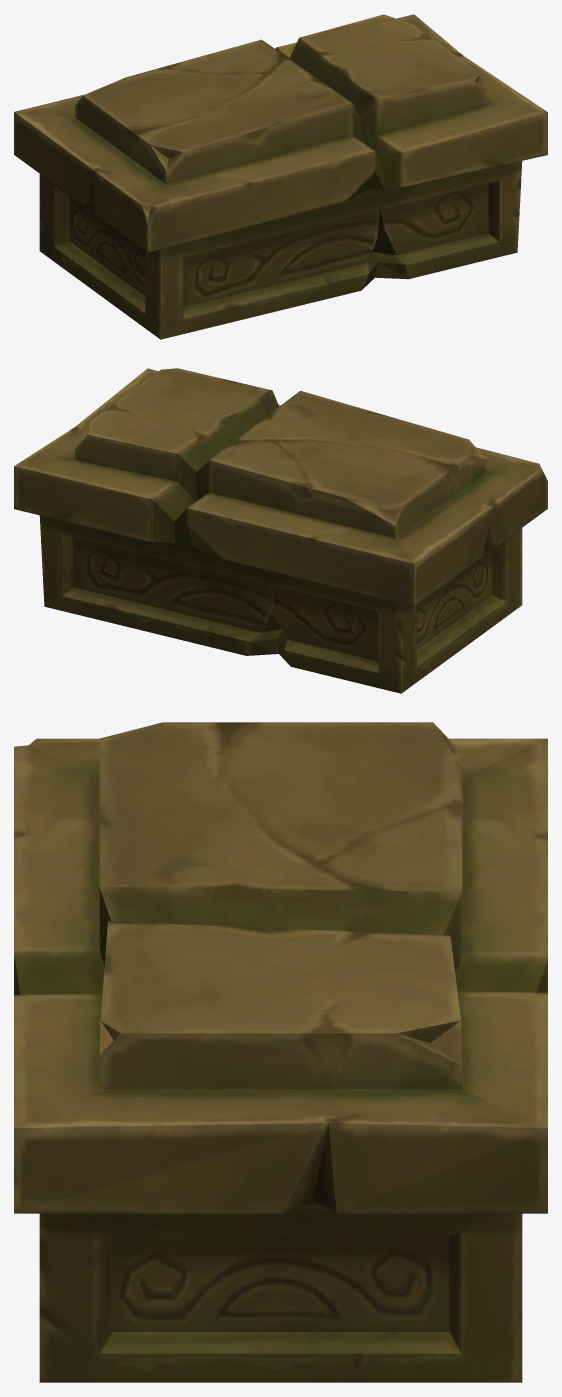
Rendered from estherian_casket_01.fbx.
3 views of the same model, one above another, from view 1: azimuth 30°, elevation 25°; view 2: azimuth 150°, elevation 25°; view 3: azimuth 270°, elevation 25° (orthographic). The views are drawn at different scales.
Parts seen in each view (by area): view 1: obj0.322; view 2: obj0.322; view 3: obj0.322.
Boxes of the visible parts, bbox=[...] form: obj0.322: bbox=[14, 14, 547, 339]; obj0.322: bbox=[14, 368, 547, 693]; obj0.322: bbox=[14, 722, 547, 1382].
Bounding box in the file's own units: 3.49 × 1.46 × 2.02.
